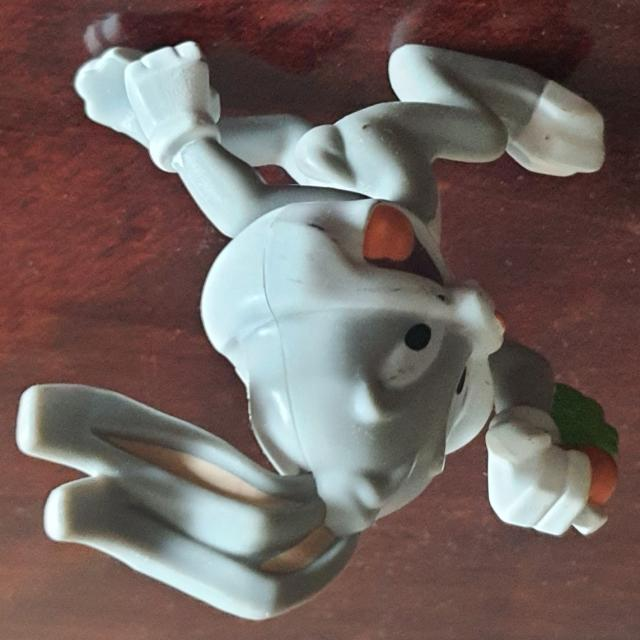Rabbit: (15, 39, 618, 621)
